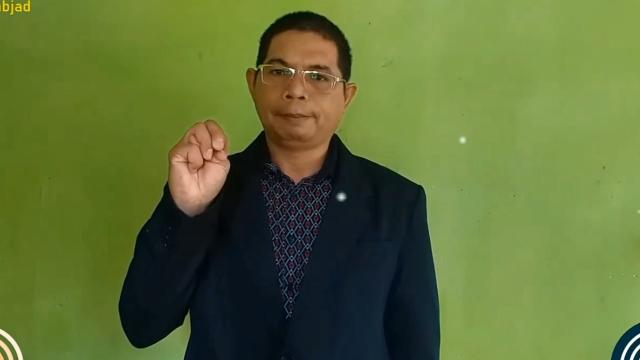M: (165, 117, 235, 199)
